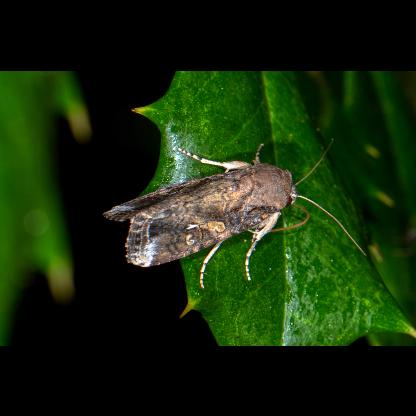Fall Armyworm Moth: (100, 135, 370, 290)
